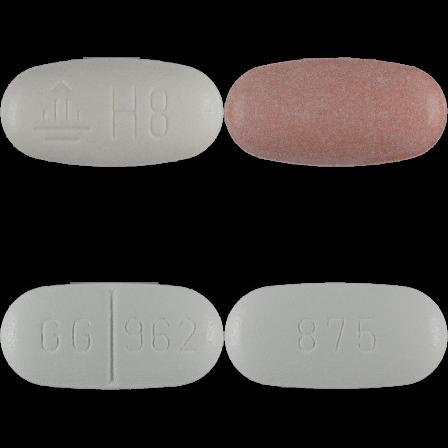54868-4540: (0, 0, 224, 224)
